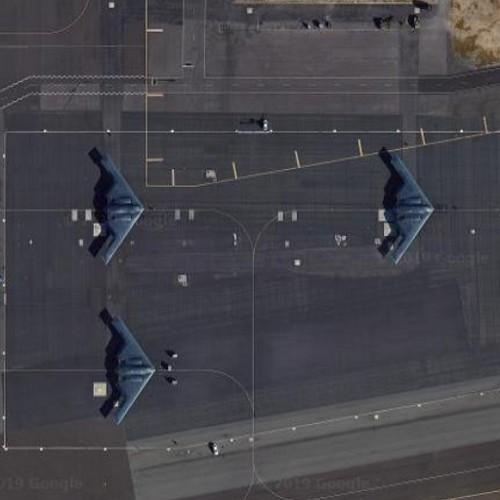B2: (108, 315, 157, 428), (97, 152, 145, 266), (388, 150, 434, 266)
